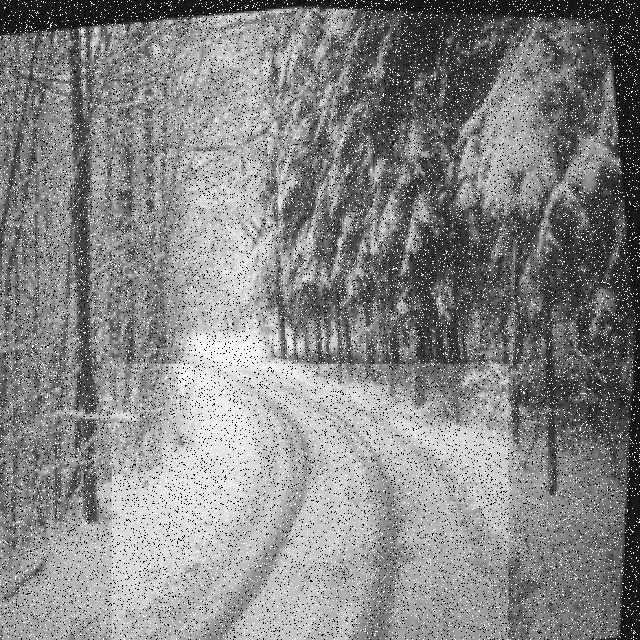ice-road: (113, 365, 508, 640)
